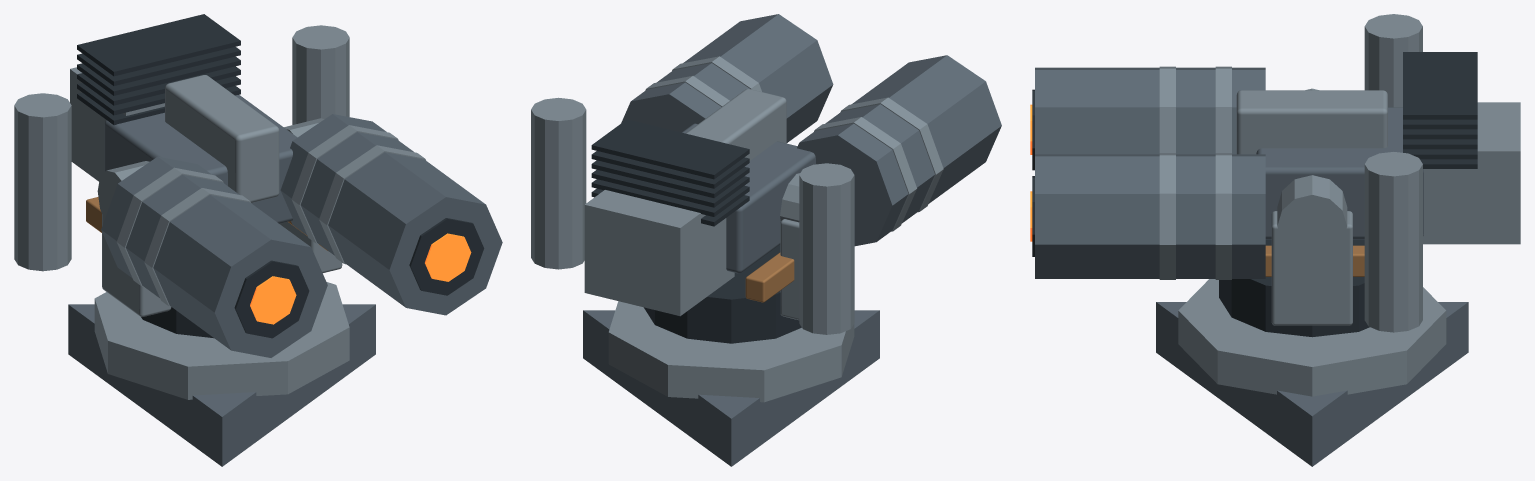
File: kiln_t2_d0.glb
3 views of the same model, side by side, from view 1: azimuth 30°, elevation 25°; view 2: azimuth 150°, elevation 25°; view 3: azimuth 270°, elevation 25° (orthographic). The views are drawn at different scales.
Visible parts, largest first — view 1: RECOIL_ARMOR_GEOMETRY, BASE_ARMOR_GEOMETRY, YAW_ARMOR_GEOMETRY, RECOIL_SIGNAL_GEOMETRY; view 2: RECOIL_ARMOR_GEOMETRY, BASE_ARMOR_GEOMETRY, YAW_ARMOR_GEOMETRY; view 3: RECOIL_ARMOR_GEOMETRY, BASE_ARMOR_GEOMETRY, YAW_ARMOR_GEOMETRY.
Boxes of the visible parts, x1,y1,x2,y2 form: RECOIL_ARMOR_GEOMETRY: [14, 14, 502, 357]; BASE_ARMOR_GEOMETRY: [68, 282, 375, 466]; YAW_ARMOR_GEOMETRY: [102, 214, 342, 338]; RECOIL_SIGNAL_GEOMETRY: [250, 233, 471, 324]; RECOIL_ARMOR_GEOMETRY: [531, 14, 1001, 334]; BASE_ARMOR_GEOMETRY: [583, 301, 879, 466]; YAW_ARMOR_GEOMETRY: [644, 219, 801, 343]; RECOIL_ARMOR_GEOMETRY: [1032, 14, 1520, 332]; BASE_ARMOR_GEOMETRY: [1156, 279, 1468, 466]; YAW_ARMOR_GEOMETRY: [1219, 211, 1369, 337].
Size of the model in its own units: 1.65 by 1.46 by 2.11.
